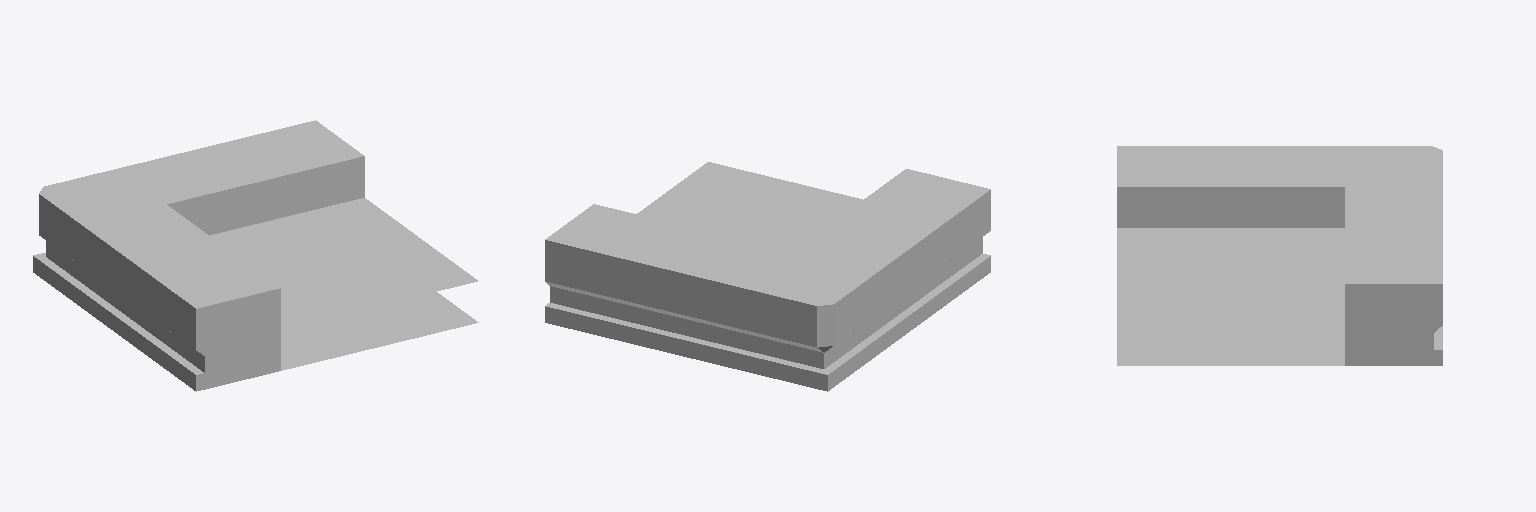
The model's file is fountainCorner.obj.
3 views of the same model, side by side, from view 1: azimuth 30°, elevation 25°; view 2: azimuth 150°, elevation 25°; view 3: azimuth 270°, elevation 25° (orthographic).
Visible parts, largest first — view 1: fountainCorner; view 2: fountainCorner; view 3: fountainCorner.
Boxes of the visible parts, box(x1,y1,x2,y2) form: fountainCorner: box(33, 120, 478, 391); fountainCorner: box(545, 162, 990, 391); fountainCorner: box(1117, 146, 1442, 365).
Size of the model in its own units: 1 by 0.28 by 1.